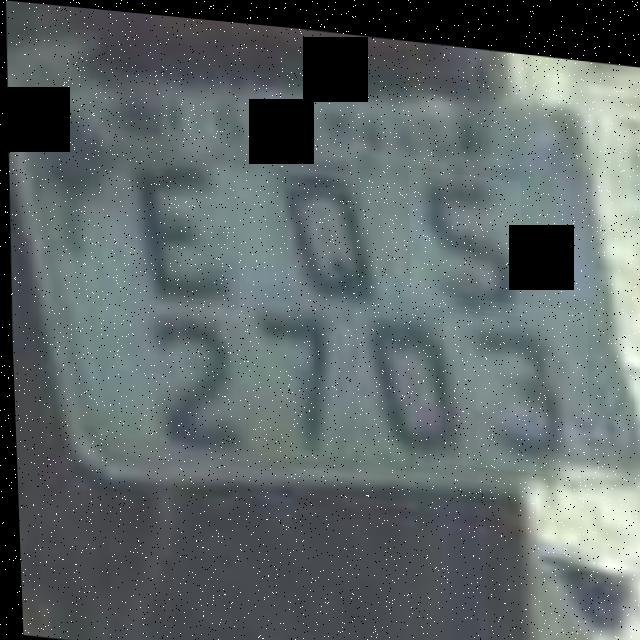0: (341, 282, 478, 470)
2: (114, 292, 266, 470)
3: (437, 287, 589, 468)
7: (237, 276, 358, 467)
D: (260, 138, 384, 304)
E: (124, 142, 240, 305)
S: (405, 160, 523, 307)
